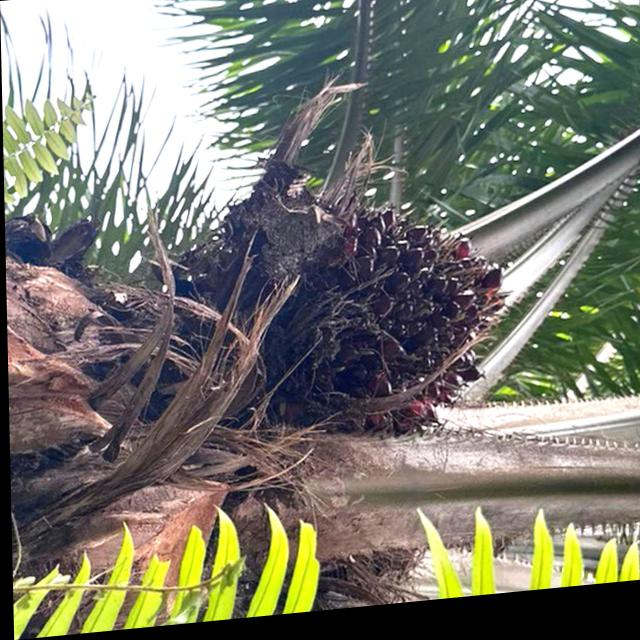ripe: (257, 178, 530, 462)
